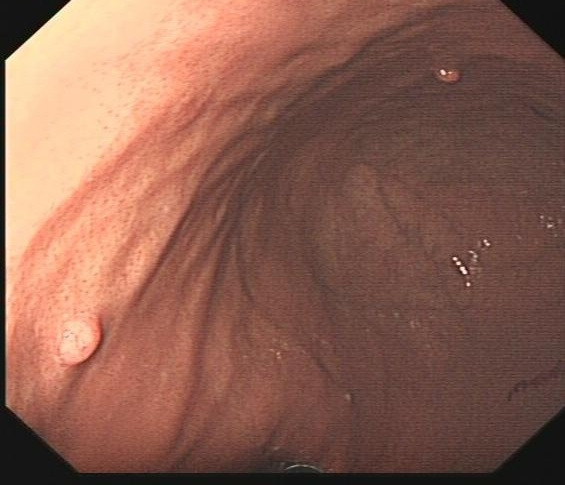Polyp: (49, 303, 103, 366)
